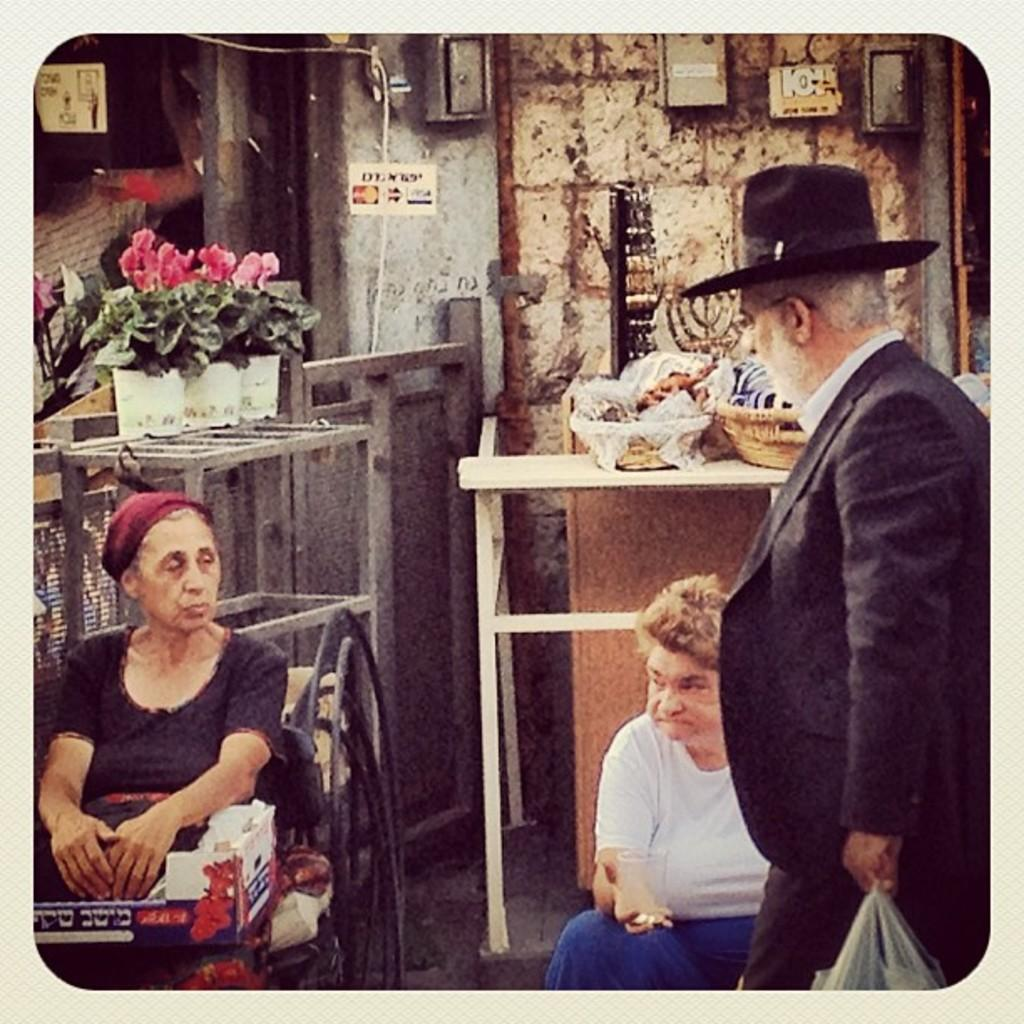Hat: (679, 164, 942, 300)
